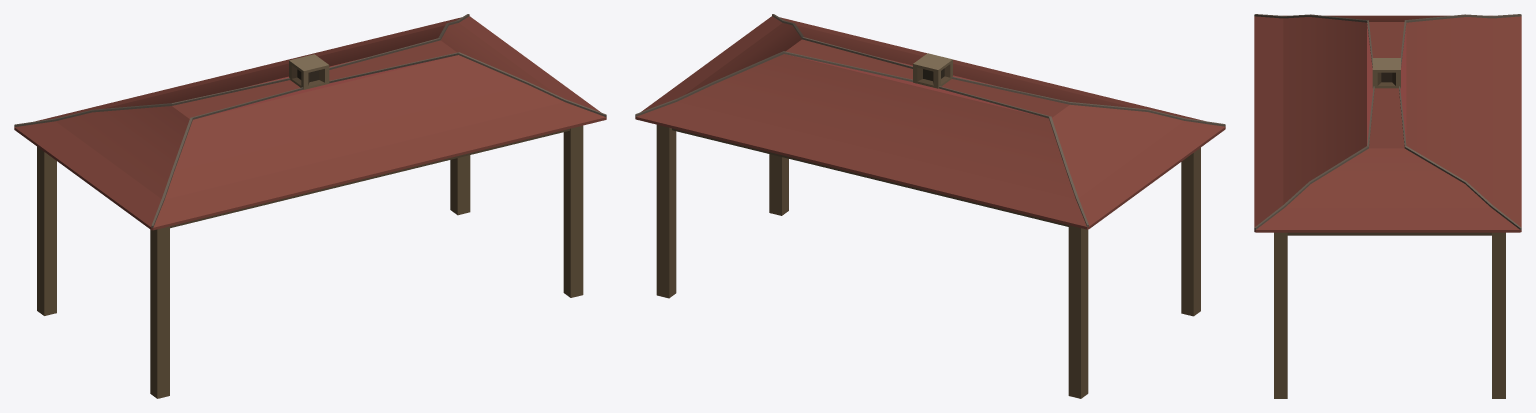
File: SM_Prop_Tent_01.fbx
The picture shows the model from 3 angles, left to right: view 1: azimuth 30°, elevation 25°; view 2: azimuth 150°, elevation 25°; view 3: azimuth 270°, elevation 25°; orthographic projection. The views are drawn at different scales.
Parts seen in each view (by area): view 1: SM_Prop_Tent_01; view 2: SM_Prop_Tent_01; view 3: SM_Prop_Tent_01.
Part boxes in pixels (<box>): SM_Prop_Tent_01: <box>14,14,606,398</box>; SM_Prop_Tent_01: <box>635,14,1225,398</box>; SM_Prop_Tent_01: <box>1254,14,1521,398</box>.
Size of the model in its own units: 0.059 by 0.03 by 0.0311.
1 material, 1 textured.
